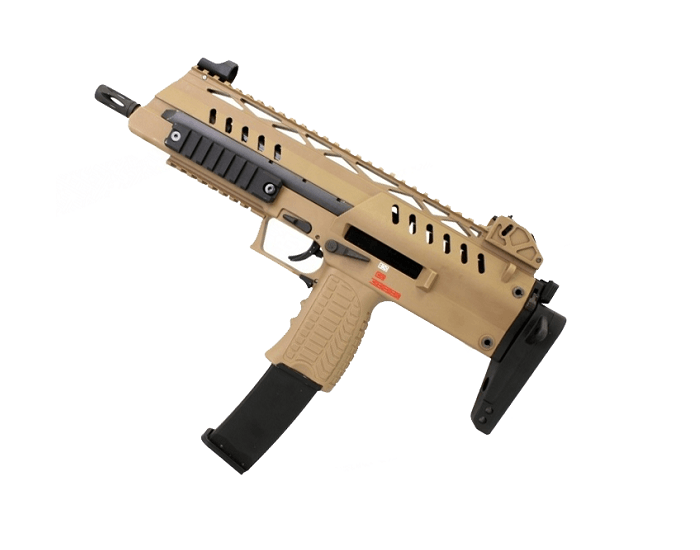Arma Falsa: (94, 50, 580, 483)
